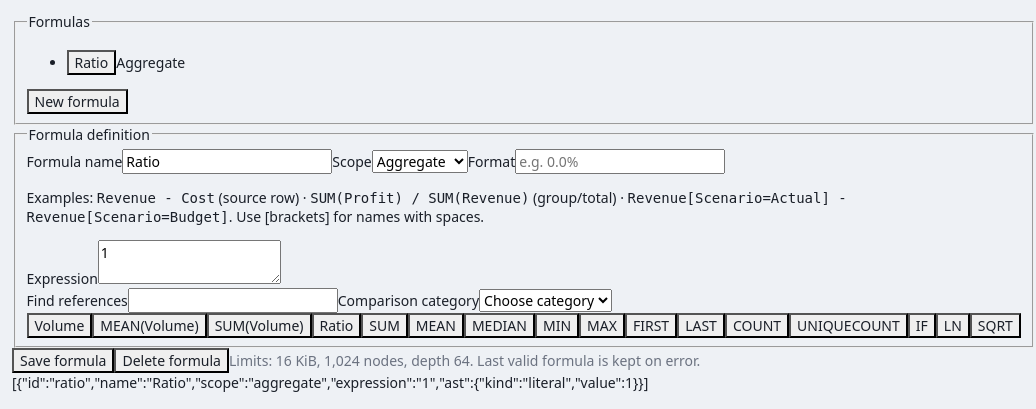
Test case: offers canonical duplicate-measure calls while still accepting existing display aliases
The image size is (1036, 409).
Later steps or results of the test are not shown.
Clear the text box labelled "Expression": [189, 262] box [98,240,281,284]
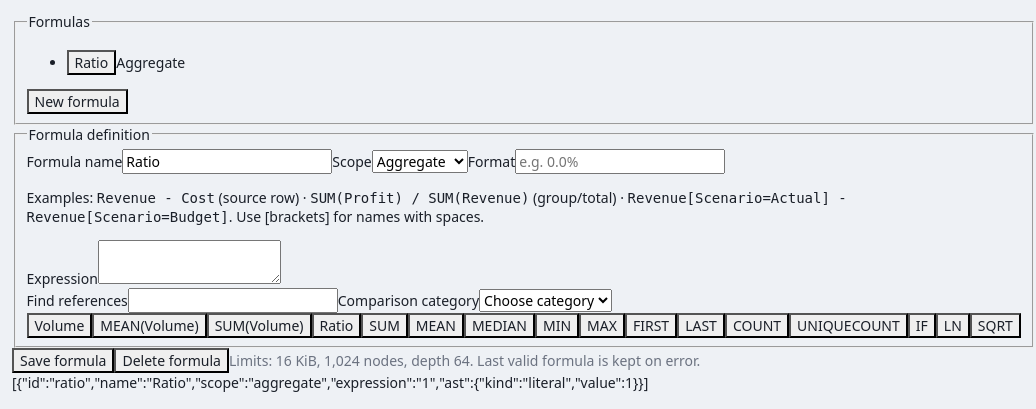
Click the button with aria-label "Insert MEAN(Volume)": [149, 325] box [92,312,207,338]
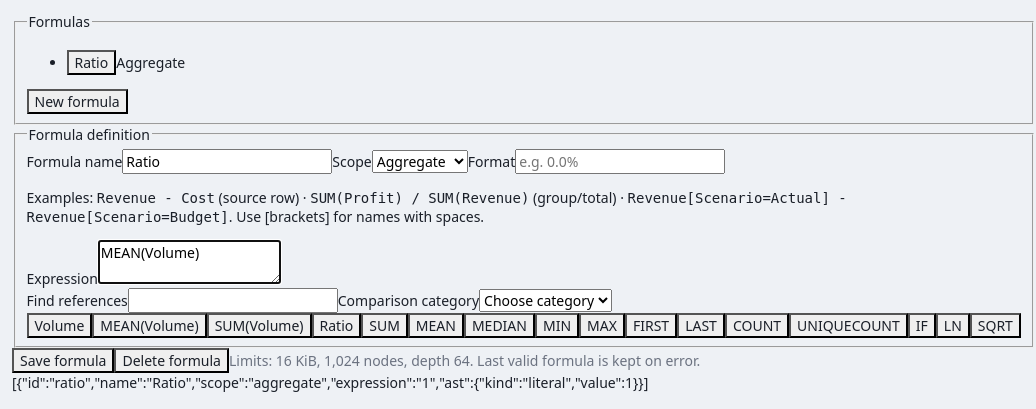
Check: the text box labelled "Expression" holds "MEAN(Volume)", box [98,240,281,284]
